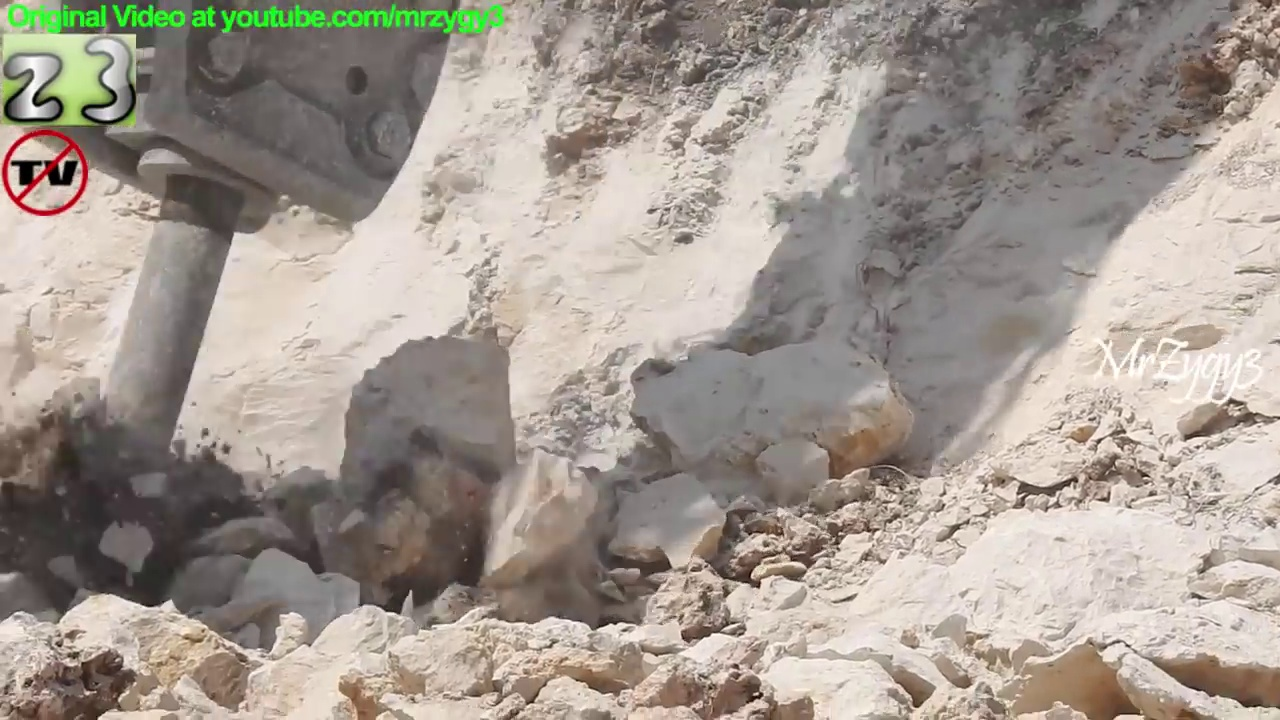excavator: (35, 1, 474, 561)
